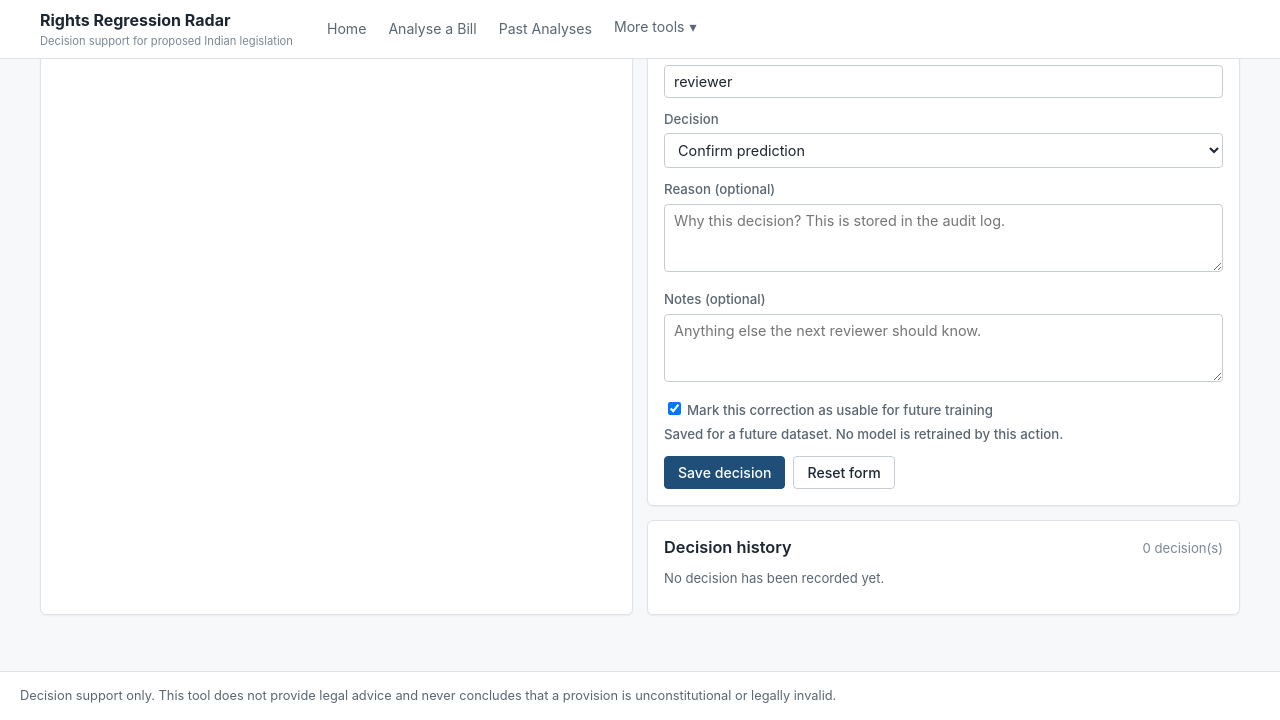
review center › shows a clear error when the API rejects the decision
(page scrolled)
Step 1. Click the button "Save decision" → (725, 472), box [664,456,786,489]
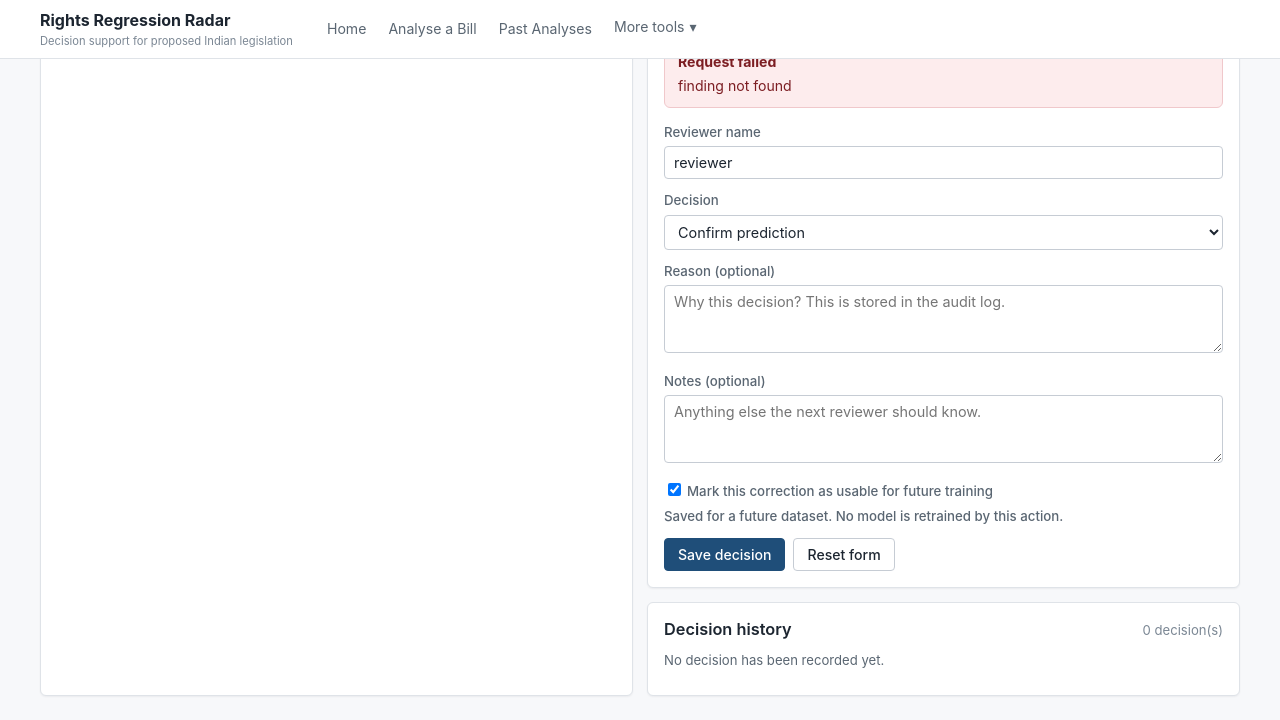
Result: the text "Request failed finding not found" is shown at [664,40,1223,108]
